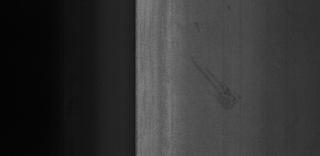water spot: (186, 51, 248, 116), (190, 20, 202, 32), (224, 5, 233, 13)
